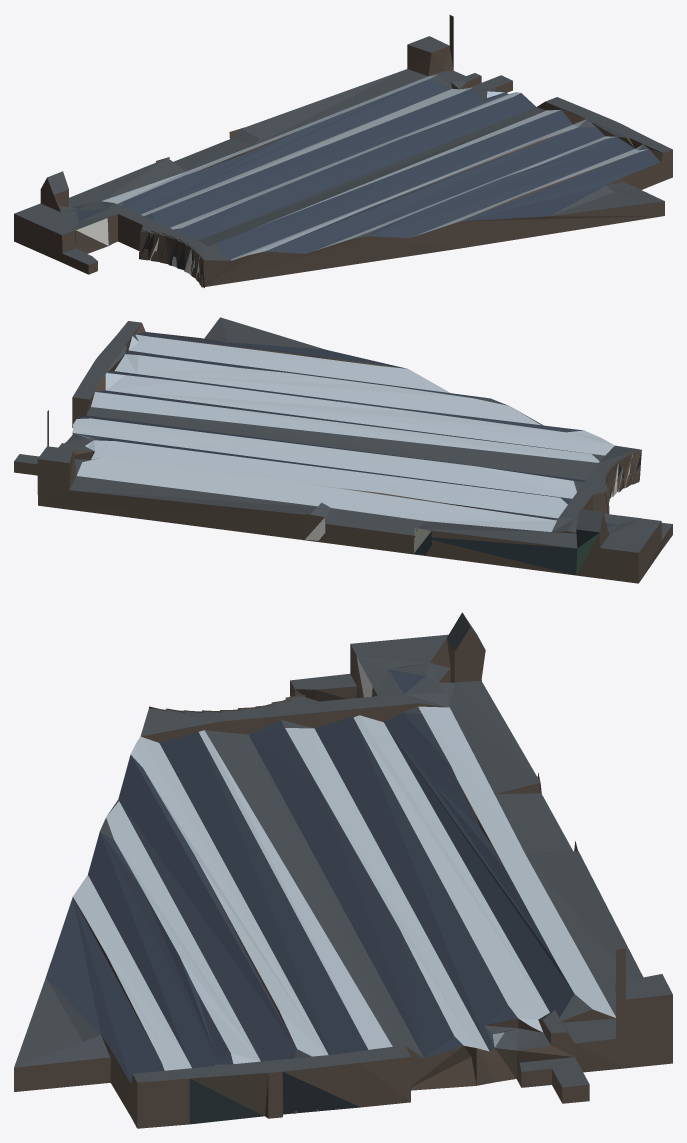
File: tramremise-lekstraat.lod2.glb
3 renders of one model, top to bottom at view 1: azimuth 30°, elevation 25°; view 2: azimuth 150°, elevation 25°; view 3: azimuth 270°, elevation 25°, orthographic. The views are drawn at different scales.
Parts seen in each view (by area): view 1: lod2; view 2: lod2; view 3: lod2.
Boxes of the visible parts, left/top/right/bottom form: lod2: left=14, top=15, right=672, bottom=287; lod2: left=14, top=317, right=672, bottom=583; lod2: left=14, top=612, right=672, bottom=1128.
Size of the model in its own units: 210 by 26.14 by 130.
